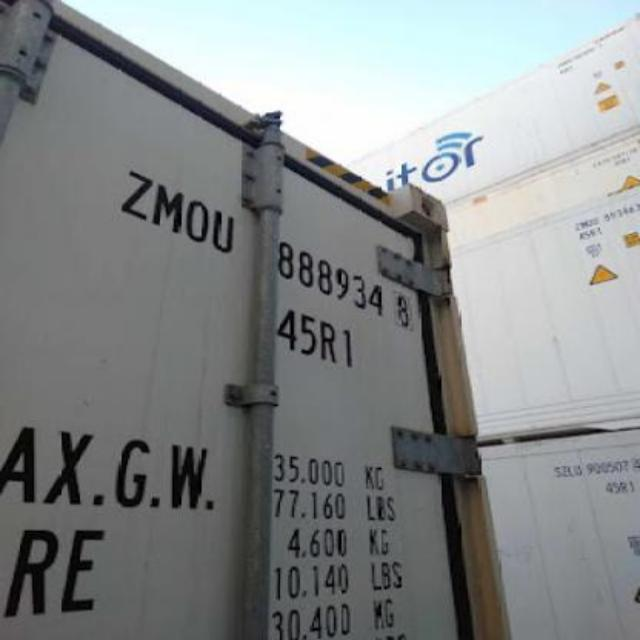3: (350, 273, 370, 311)
4: (371, 278, 384, 318)
8: (279, 237, 295, 280), (300, 248, 316, 288), (396, 292, 414, 326), (318, 258, 334, 296)
9: (336, 264, 352, 300)
M: (154, 179, 184, 235)
O: (186, 192, 210, 244)
U: (212, 202, 238, 254)
Z: (110, 160, 152, 223)
